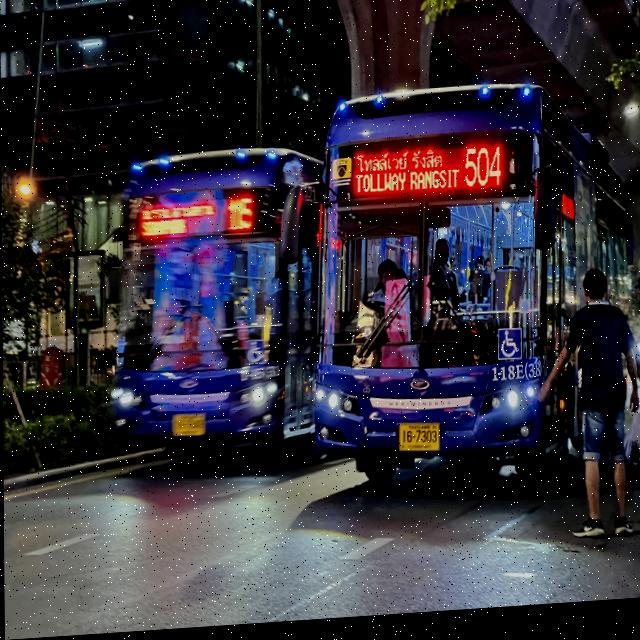Bus Line Number: (461, 148, 504, 201), (219, 196, 260, 237)
Bus Side Number: (489, 369, 543, 390), (237, 365, 282, 386)
Destination Sign: (351, 152, 461, 204), (140, 201, 219, 242)
TSB-Bus: (305, 74, 636, 510), (98, 136, 322, 474)
